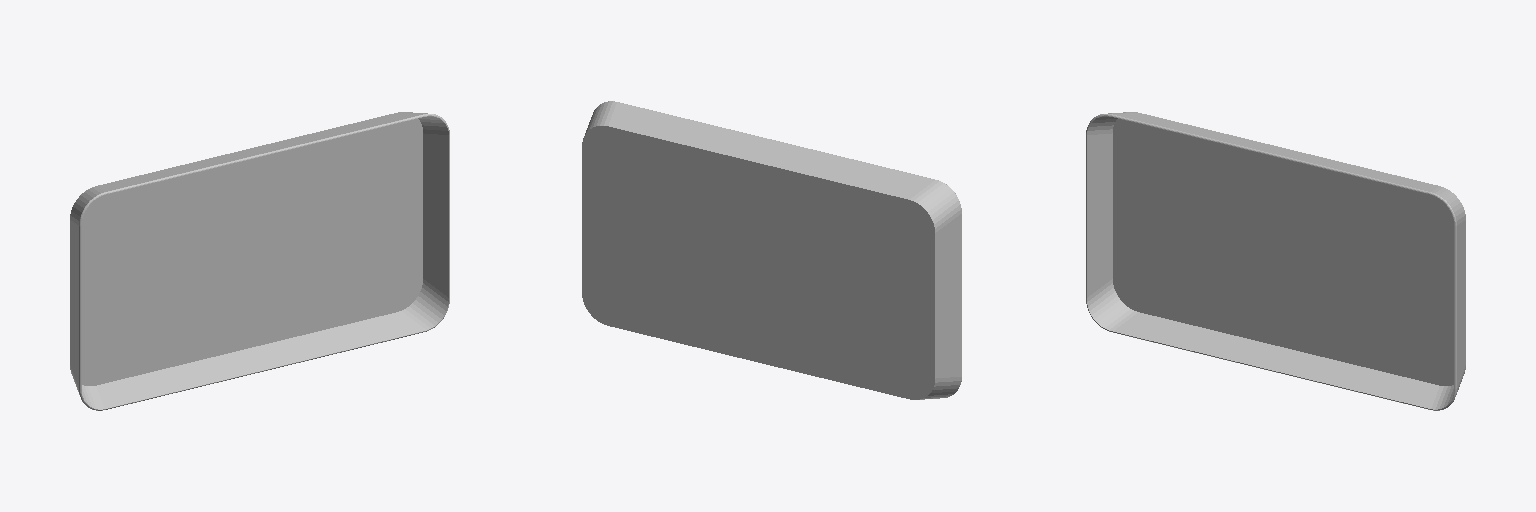
Rendered from casing_n.obj.
3 views of the same model, side by side, from view 1: azimuth 30°, elevation 25°; view 2: azimuth 150°, elevation 25°; view 3: azimuth 330°, elevation 25° (orthographic).
Size of the model in its own units: 2.9 by 1.63 by 0.254.